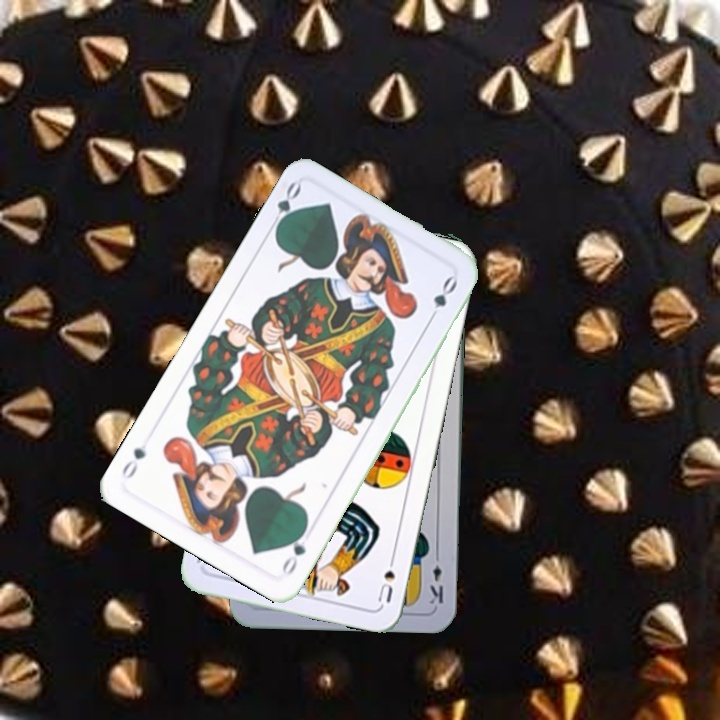EK: (426, 548, 446, 607)
GO: (265, 178, 304, 235), (278, 522, 310, 578)
SU: (373, 548, 398, 605)
